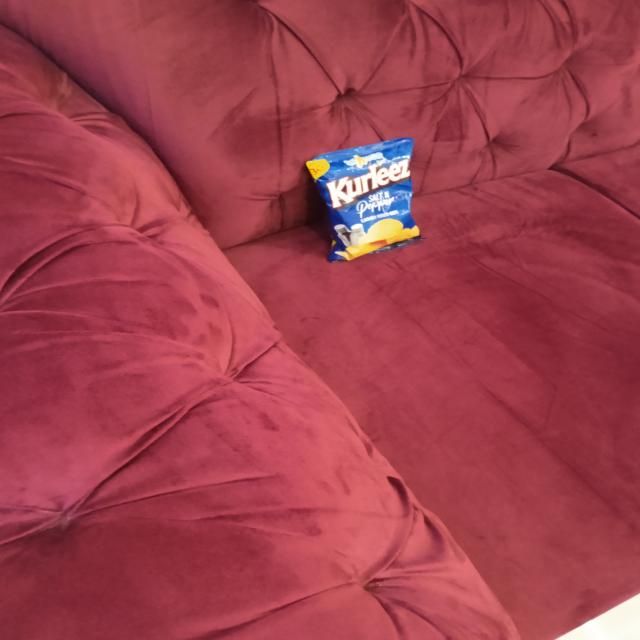Plastic: (298, 129, 452, 271)
